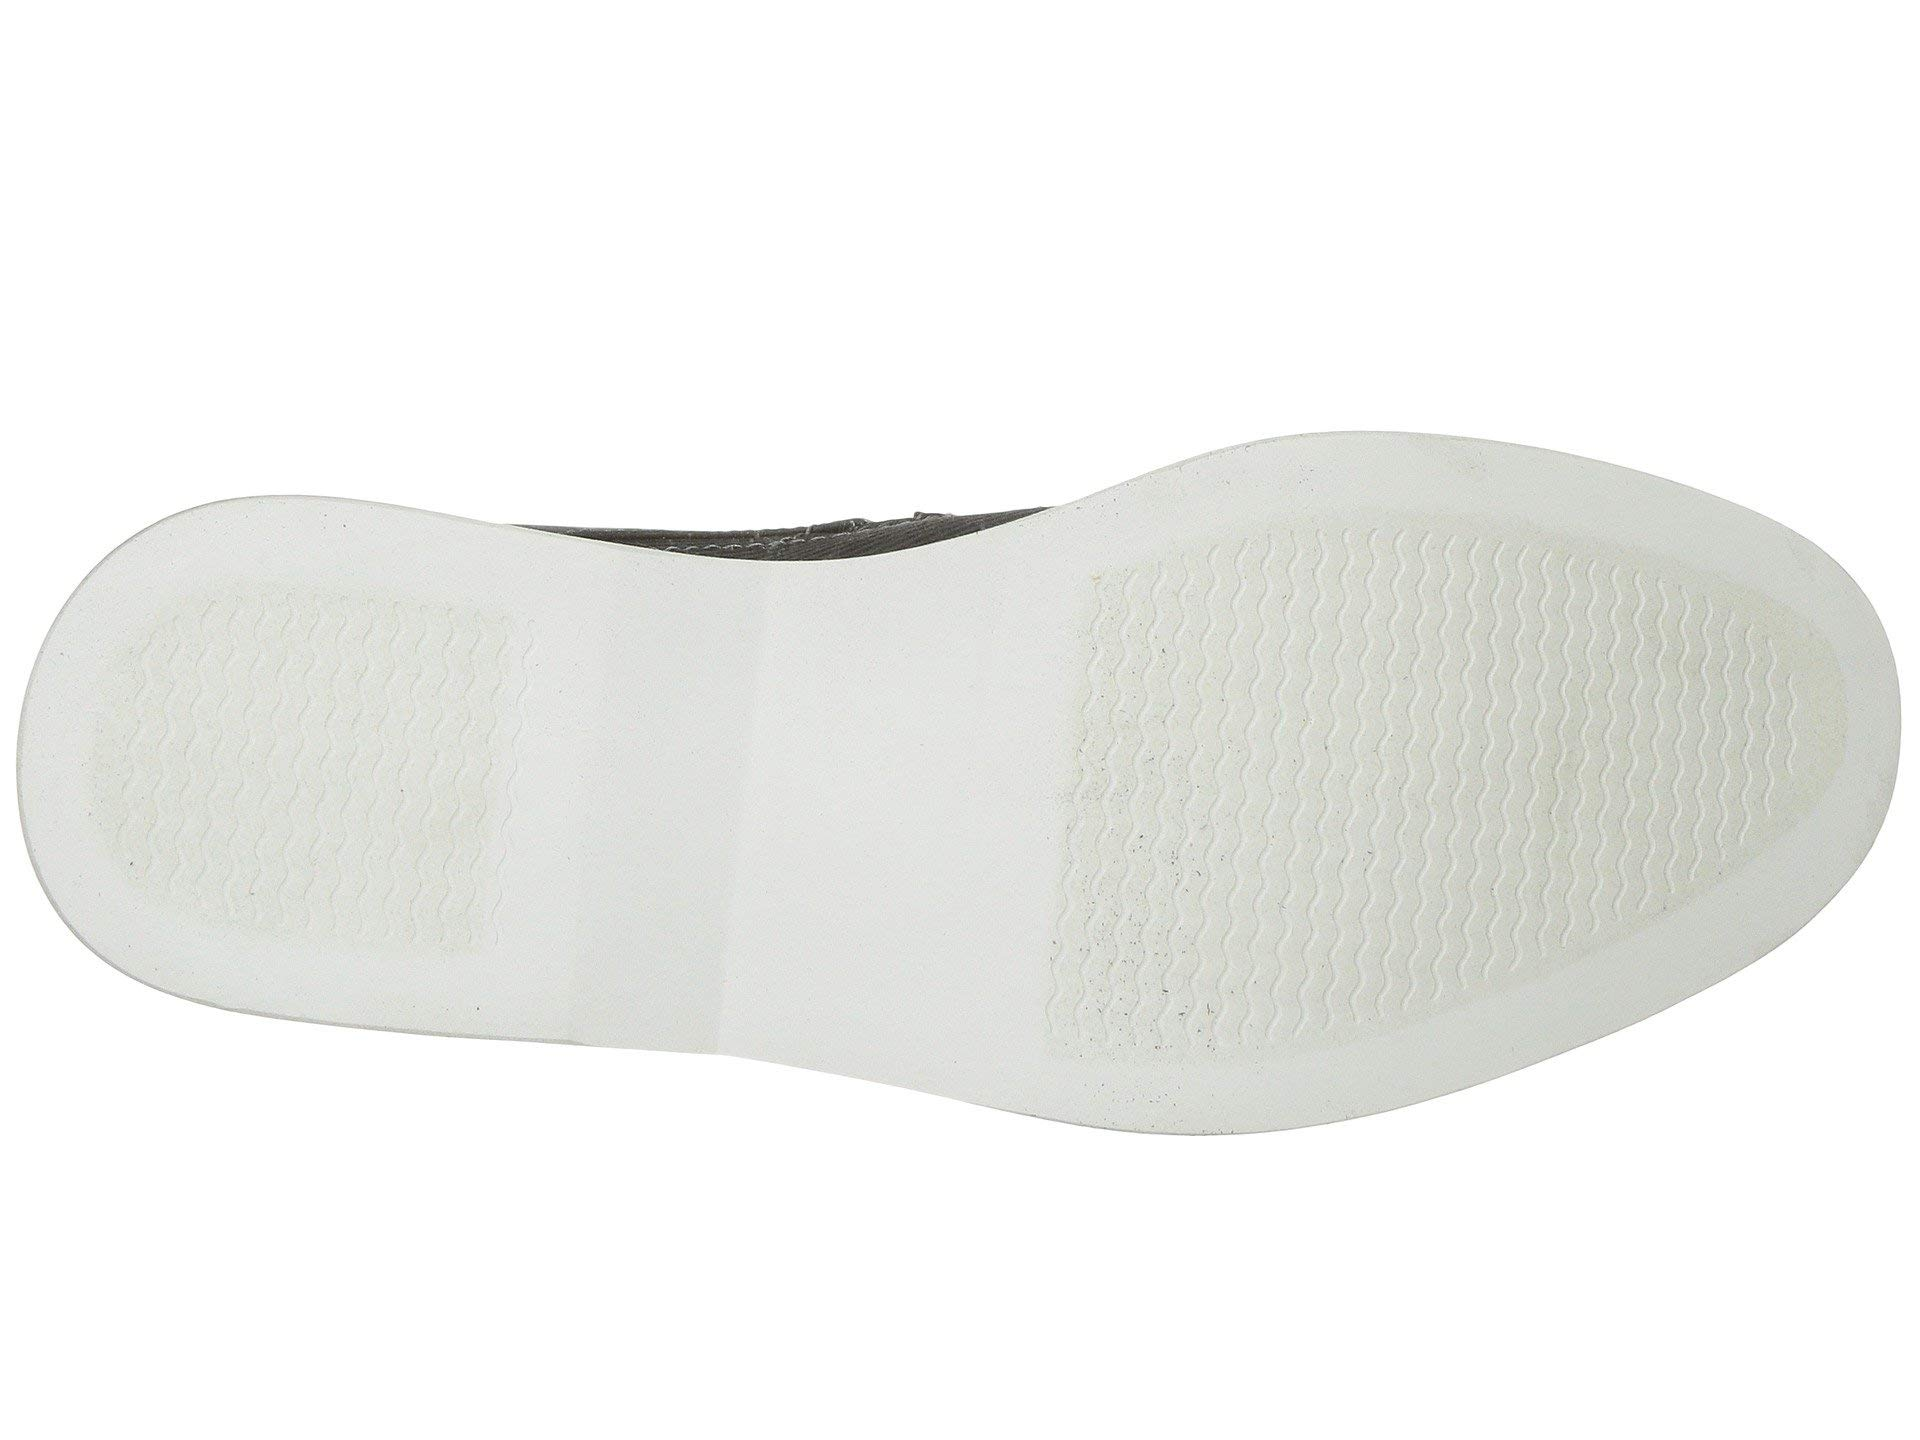chevron: (1290, 542, 1652, 885)
